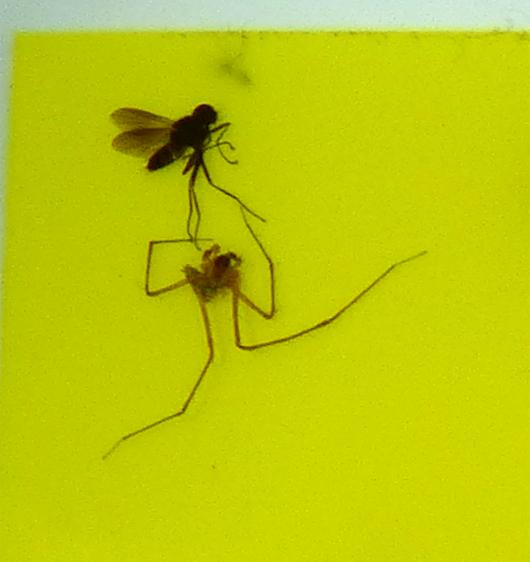Araneae: (100, 204, 430, 462)
Brachycera: (101, 100, 276, 241)
